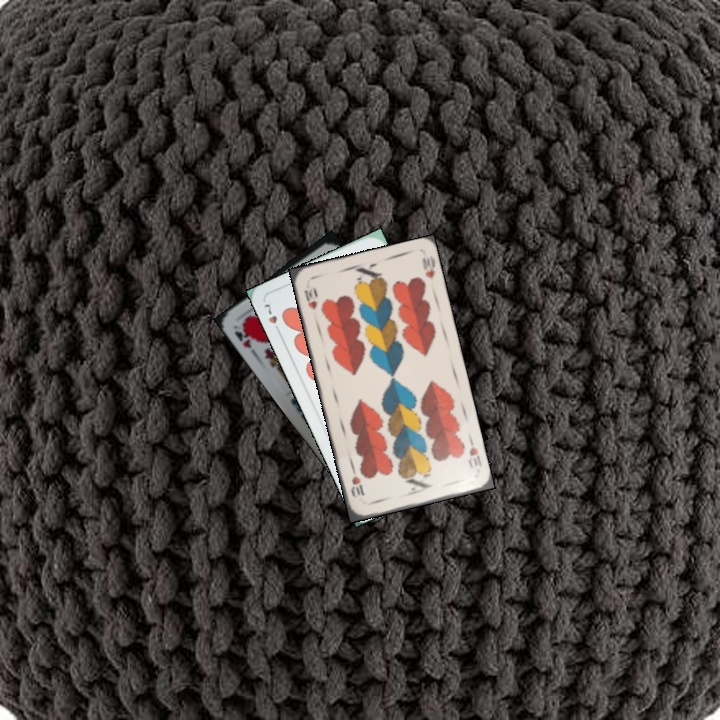H10: (464, 435, 484, 470), (300, 282, 320, 312)
H7: (260, 300, 283, 337)
HK: (230, 320, 259, 356)
